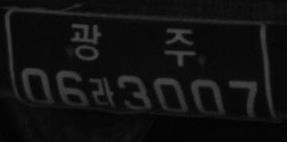0: (190, 77, 226, 117), (153, 75, 189, 114), (21, 66, 54, 105)
3: (116, 74, 153, 112)
6: (55, 68, 89, 109)
7: (227, 78, 260, 121)
광주_D: (68, 21, 198, 68)
라: (90, 76, 115, 108)
